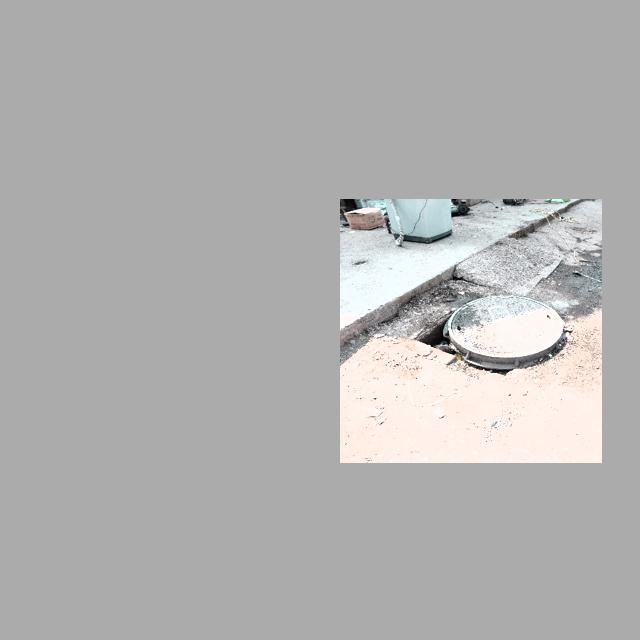circle: (426, 290, 571, 372)
